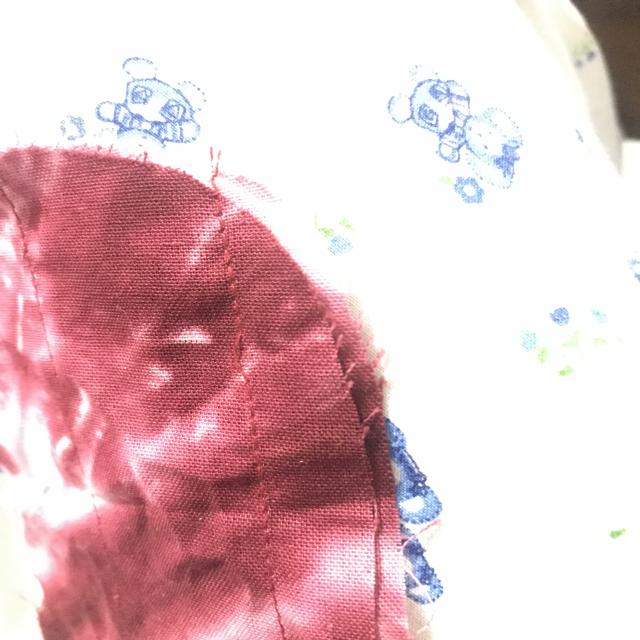skip: (214, 324, 270, 393)
